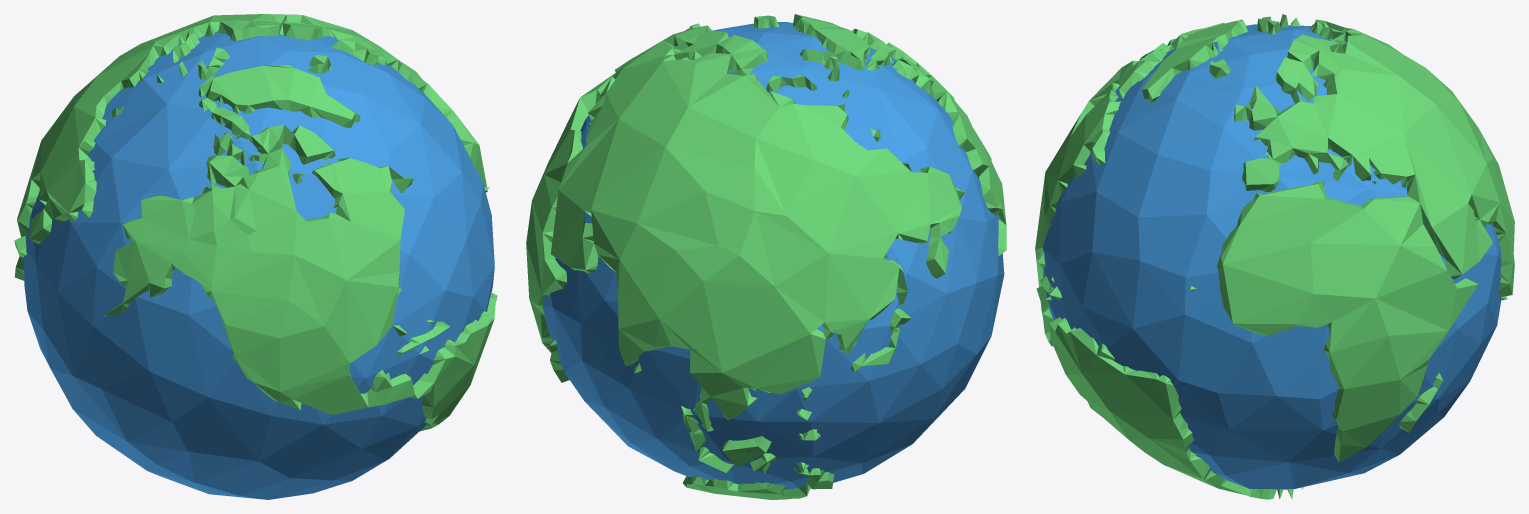
File: low_poly_earth.glb
The picture shows the model from 3 angles, left to right: view 1: azimuth 30°, elevation 25°; view 2: azimuth 150°, elevation 25°; view 3: azimuth 270°, elevation 25°; orthographic projection.
Parts seen in each view (by area): view 1: low_poly_earth; view 2: low_poly_earth; view 3: low_poly_earth.
Boxes of the visible parts, box(x1,y1,x2,y2) form: low_poly_earth: box(14, 14, 497, 499); low_poly_earth: box(526, 14, 1006, 499); low_poly_earth: box(1035, 14, 1514, 499).
Bounding box in the file's own units: 1.95 × 2.01 × 1.99.
